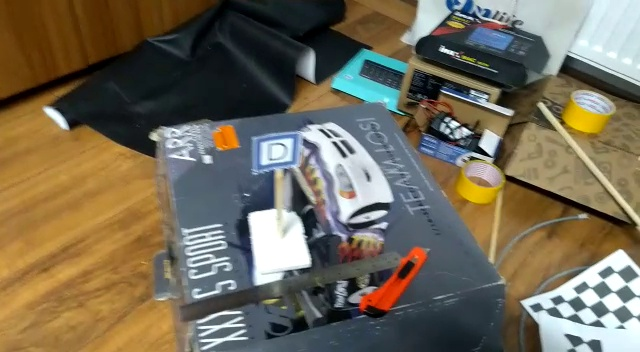durak: (249, 129, 300, 171)
